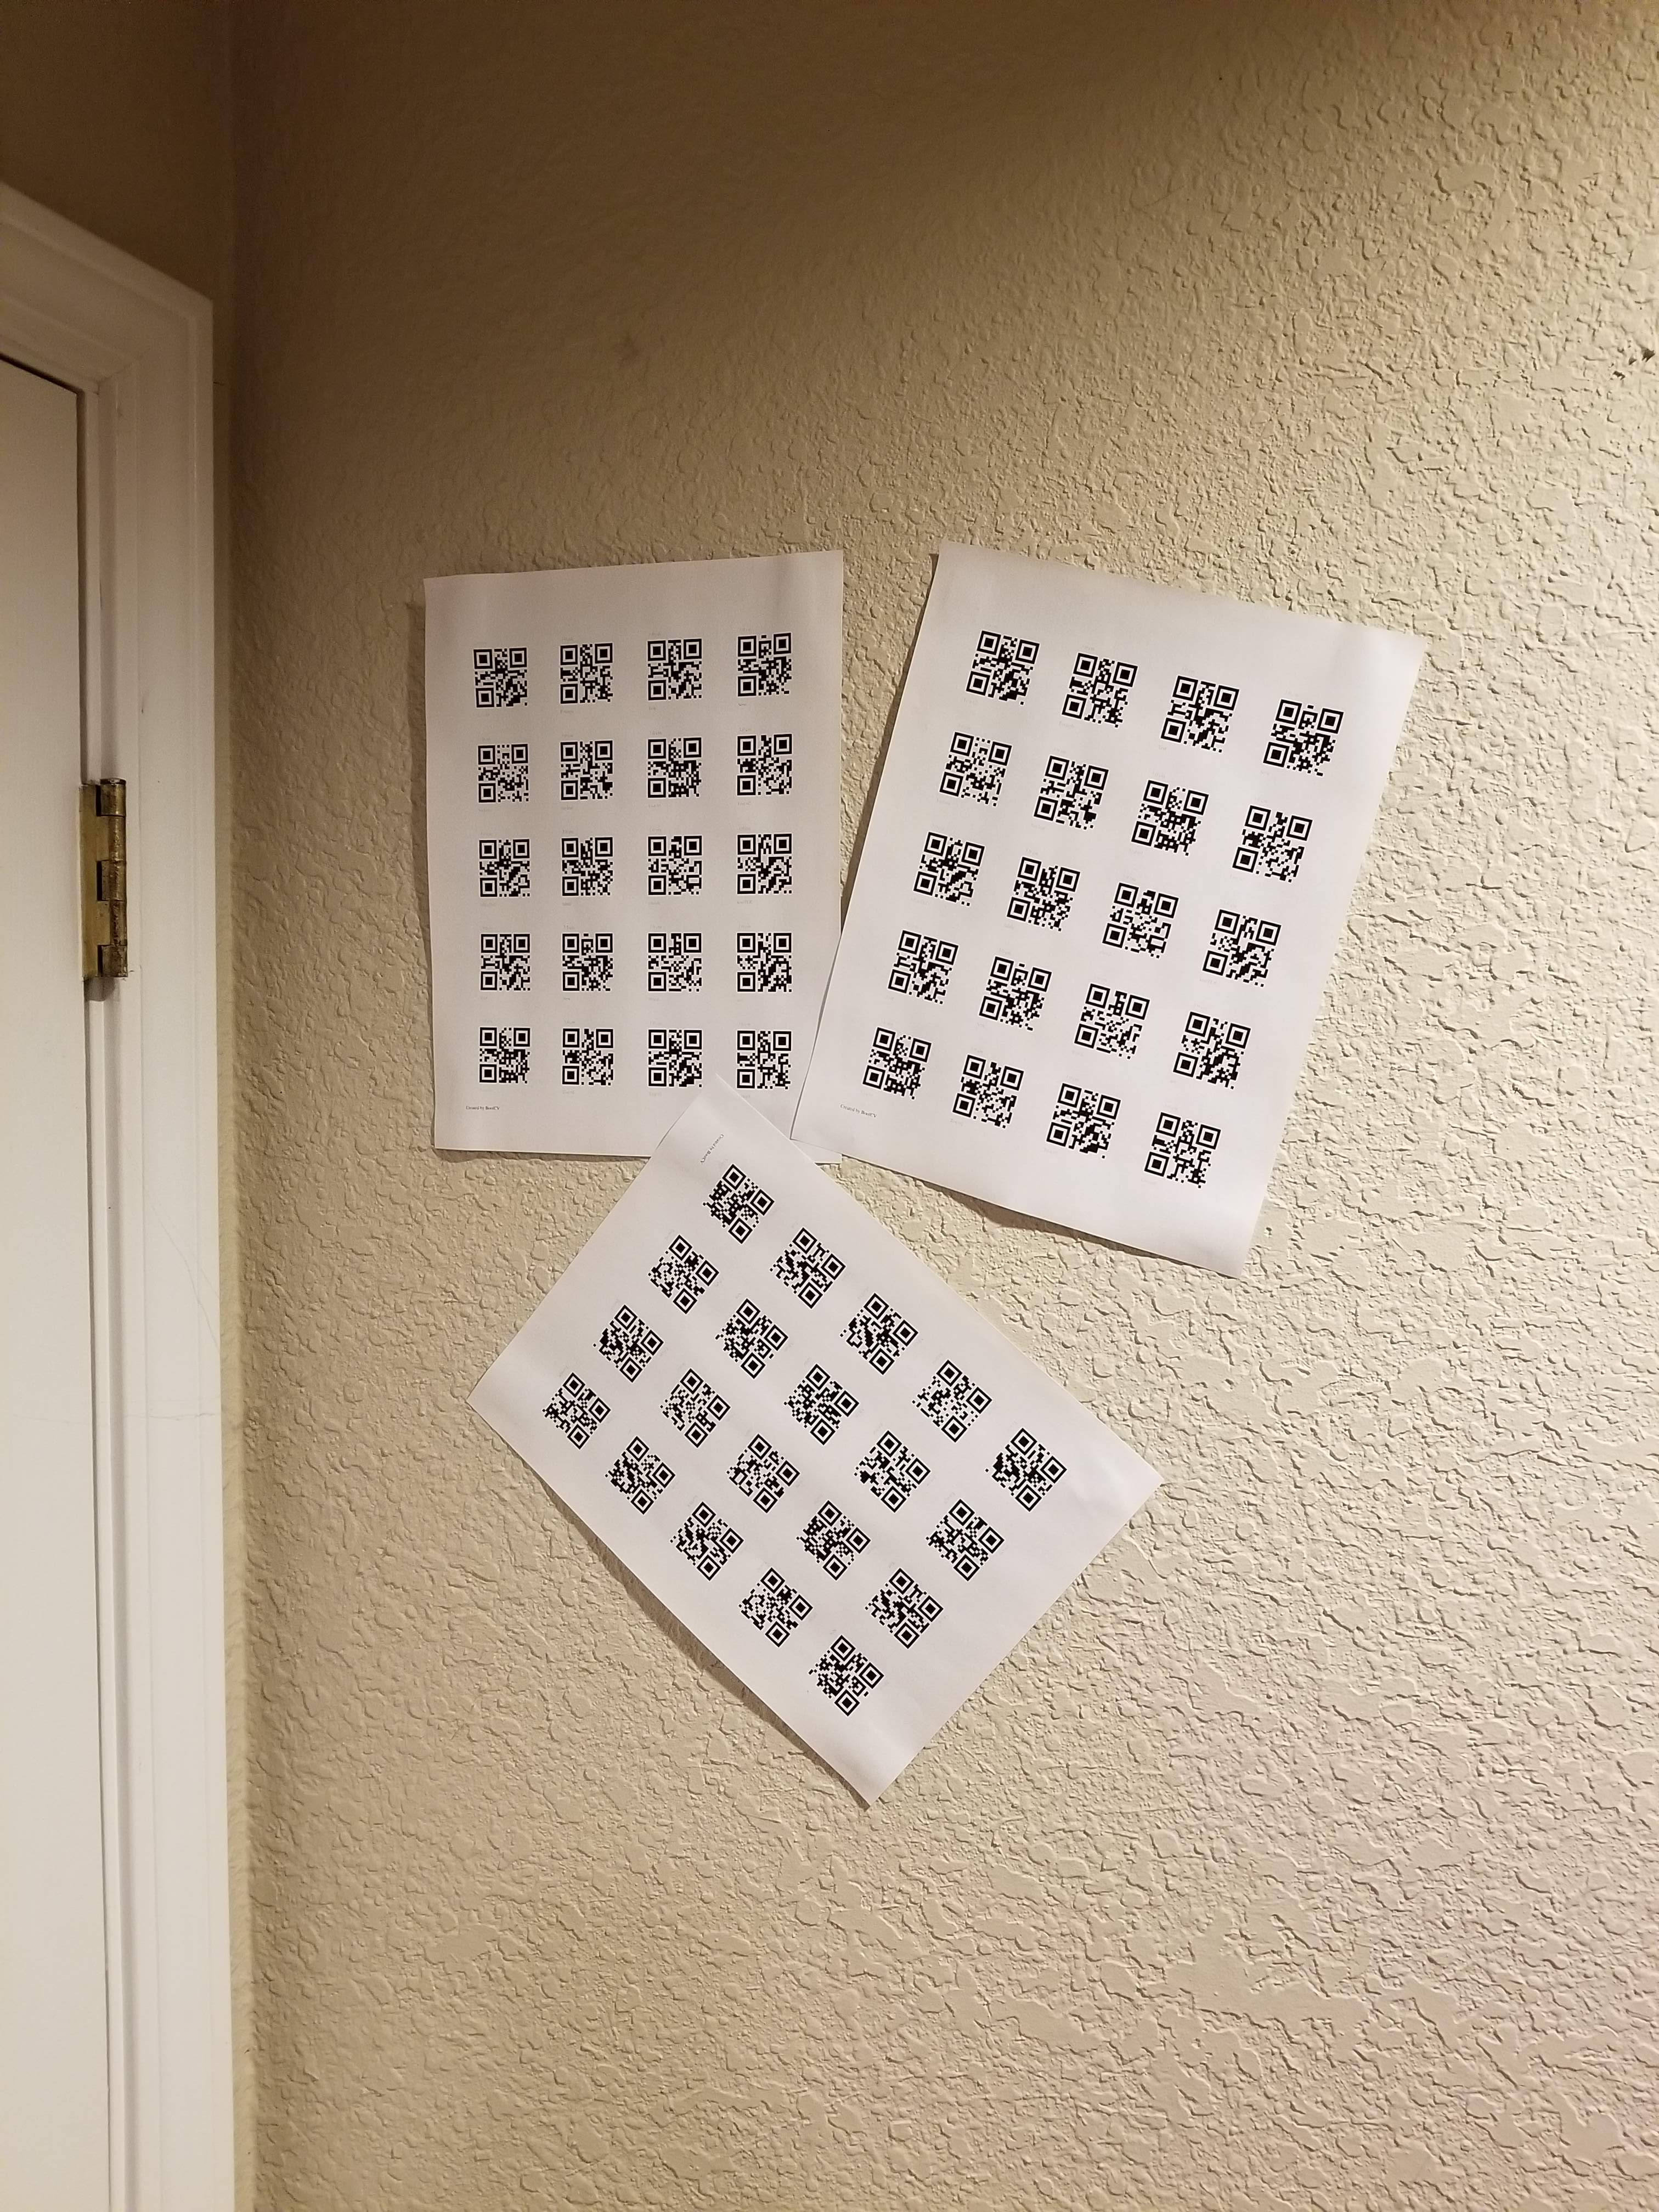QR_CODE: (1220, 786, 1337, 892), (1131, 1097, 1246, 1197), (1159, 998, 1263, 1101), (1253, 688, 1363, 784), (1033, 1069, 1133, 1172), (1187, 895, 1291, 991), (948, 610, 1044, 712), (1047, 641, 1150, 737), (1086, 871, 1188, 967), (802, 1627, 901, 1724), (777, 1348, 866, 1453), (830, 1280, 922, 1379), (711, 1284, 802, 1385), (1145, 674, 1248, 763), (925, 718, 1021, 812), (992, 850, 1086, 946), (1021, 747, 1121, 838), (904, 1348, 997, 1444), (903, 820, 993, 918), (922, 1489, 1011, 1588), (767, 1212, 850, 1317), (877, 918, 969, 1012), (981, 1420, 1072, 1515), (727, 1559, 823, 1649), (1063, 968, 1152, 1066), (852, 1010, 938, 1111), (695, 1158, 788, 1251), (793, 1494, 884, 1588), (601, 1428, 690, 1524), (640, 1221, 727, 1318), (1121, 770, 1213, 860), (579, 1291, 669, 1381), (969, 951, 1058, 1043), (847, 1423, 934, 1517), (720, 1423, 807, 1517), (943, 1040, 1028, 1136), (859, 1559, 946, 1651), (451, 627, 537, 719), (653, 1362, 737, 1456), (538, 1357, 617, 1456), (627, 1007, 711, 1099), (636, 618, 718, 712), (667, 1496, 749, 1590), (725, 625, 812, 712), (720, 822, 802, 911), (720, 1017, 805, 1101), (636, 723, 716, 812), (631, 925, 713, 1010), (464, 1012, 542, 1099), (547, 726, 624, 813), (725, 918, 802, 1005), (460, 732, 542, 812), (545, 827, 626, 909), (464, 921, 542, 1005), (545, 925, 626, 1003), (725, 726, 807, 803), (551, 1014, 624, 1099), (464, 824, 538, 904), (638, 827, 713, 907), (545, 631, 622, 705)
